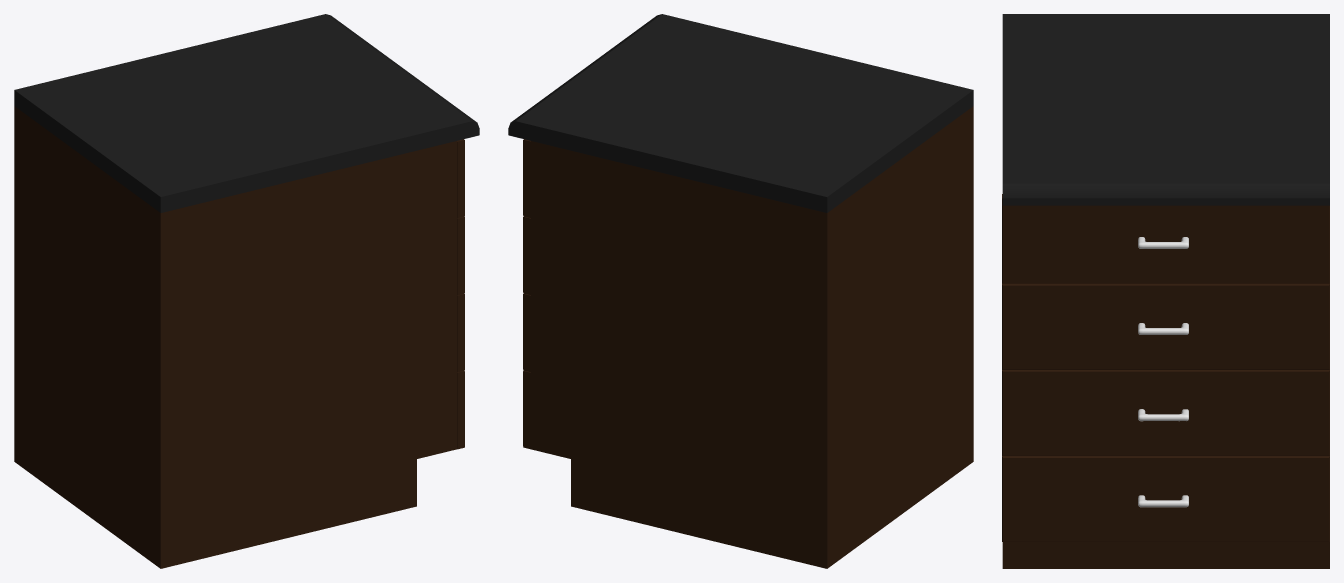
File: cabinet_Drawer.fbx
3 renders of one model, left to right at view 1: azimuth 30°, elevation 25°; view 2: azimuth 150°, elevation 25°; view 3: azimuth 270°, elevation 25°, orthographic. The views are drawn at different scales.
Visible parts, largest first — view 1: Cabinet.002, Drawer1, Drawer2, Drawer4, Drawer3; view 2: Cabinet.002, Drawer1, Drawer2, Drawer3, Drawer4; view 3: Cabinet.002, Drawer2, Drawer3, Drawer4, Drawer1.
Part boxes in pixels (left/top/right/bottom): Cabinet.002: left=14, top=14, right=479, bottom=568; Drawer1: left=457, top=139, right=464, bottom=218; Drawer2: left=457, top=216, right=464, bottom=295; Drawer4: left=457, top=371, right=464, bottom=449; Drawer3: left=457, top=294, right=464, bottom=372; Cabinet.002: left=508, top=14, right=973, bottom=568; Drawer1: left=523, top=139, right=530, bottom=217; Drawer2: left=523, top=216, right=530, bottom=294; Drawer3: left=523, top=293, right=530, bottom=372; Drawer4: left=523, top=370, right=530, bottom=449; Cabinet.002: left=1002, top=14, right=1329, bottom=568; Drawer2: left=1002, top=283, right=1329, bottom=369; Drawer3: left=1002, top=370, right=1329, bottom=455; Drawer4: left=1002, top=456, right=1329, bottom=541; Drawer1: left=1002, top=194, right=1329, bottom=283.
Size of the model in its own units: 62.83 by 70 by 50.07.
